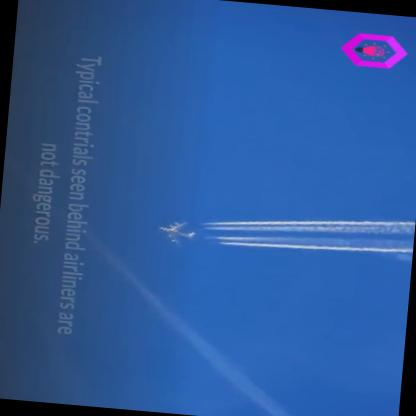plane: (152, 212, 202, 256)
